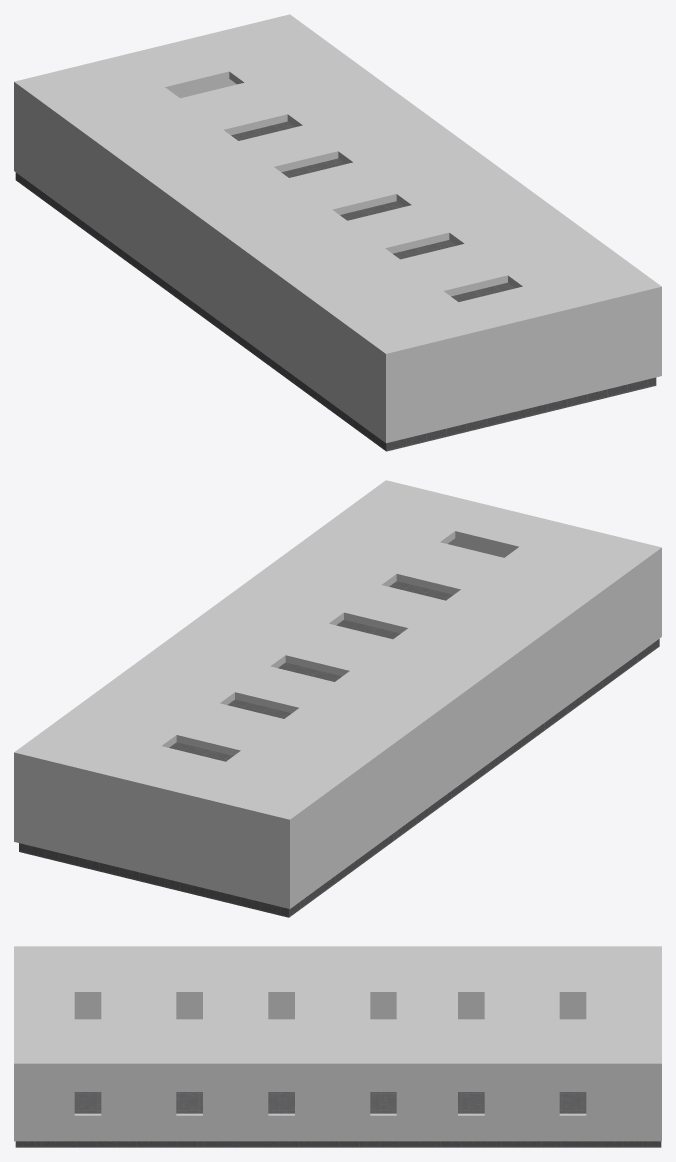
The model's file is house_mir.FBX.
3 views of the same model, one above another, from view 1: azimuth 30°, elevation 25°; view 2: azimuth 150°, elevation 25°; view 3: azimuth 270°, elevation 25° (orthographic). The views are drawn at different scales.
Parts seen in each view (by area): view 1: Object; view 2: Object; view 3: Object.
Boxes of the visible parts, <box> form: Object: <box>14,14,661,451</box>; Object: <box>14,480,661,917</box>; Object: <box>14,946,661,1147</box>.
Bounding box in the file's own units: 21.15 × 49.37 × 7.22.
